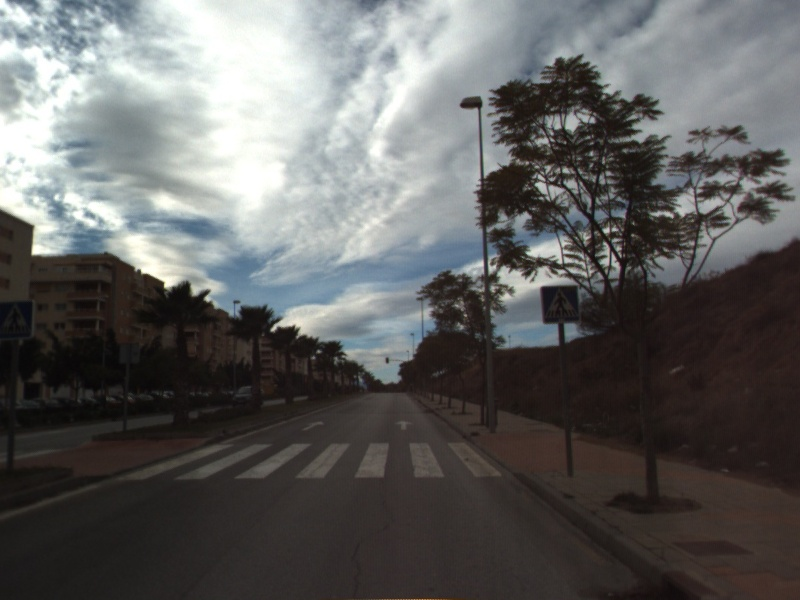STRAIGHT: (300, 419, 326, 432), (393, 418, 415, 432)
